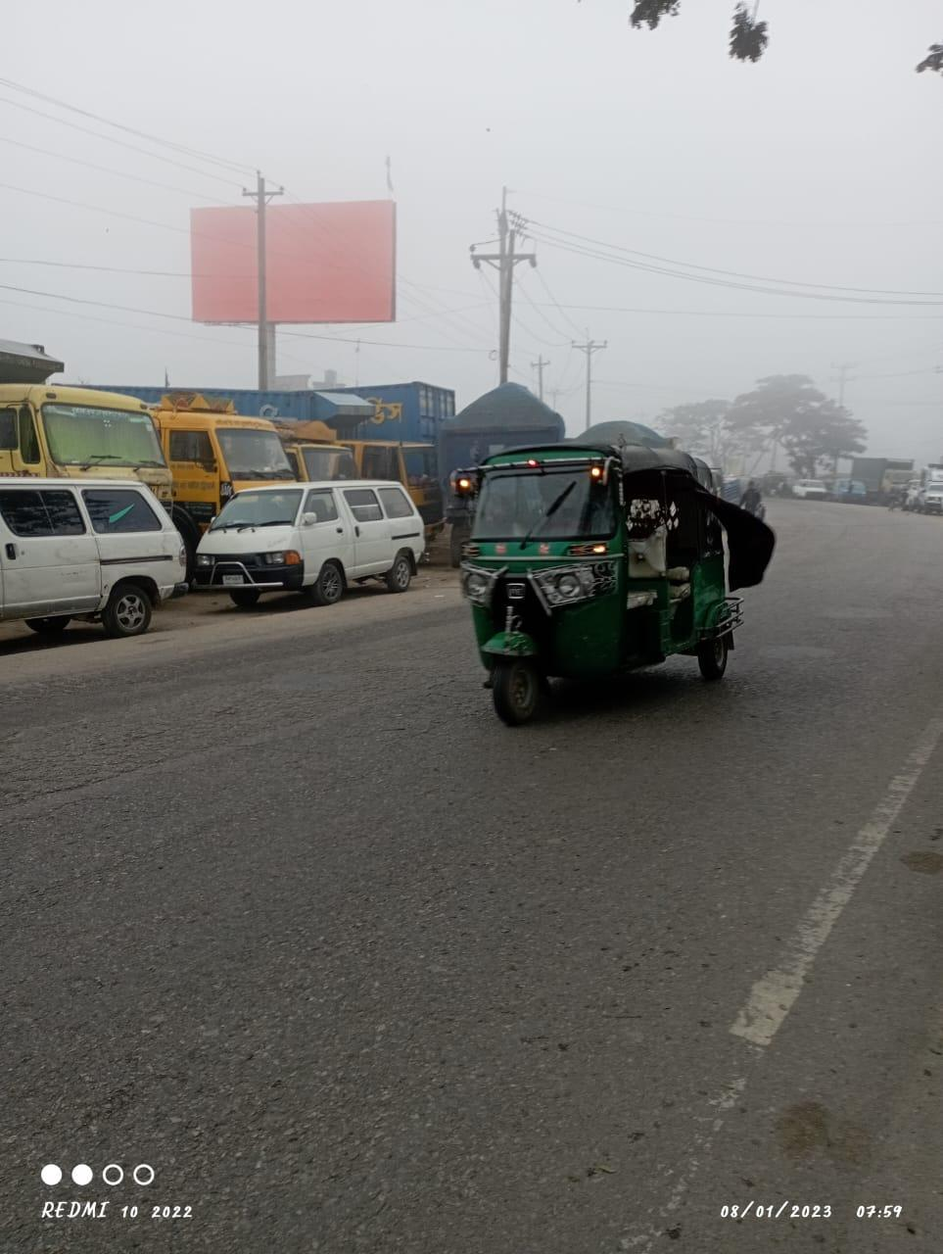Car: (193, 473, 432, 610), (4, 474, 196, 640)
